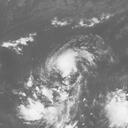cyclone: (52, 48, 79, 77)
